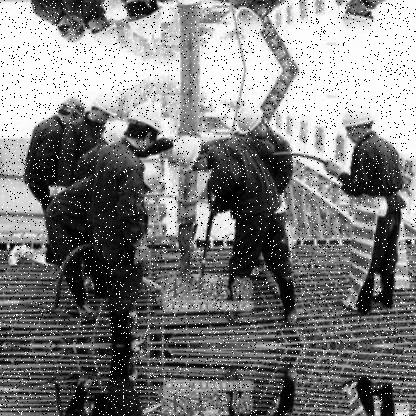Helmet: (122, 95, 167, 158), (168, 122, 216, 176), (337, 0, 385, 45), (124, 0, 176, 41), (223, 0, 276, 39), (230, 100, 268, 150), (340, 102, 385, 144), (86, 15, 122, 52), (88, 92, 121, 132), (53, 9, 89, 45), (52, 94, 86, 126), (134, 164, 166, 197), (101, 0, 136, 24), (102, 118, 130, 147), (178, 0, 204, 15)
